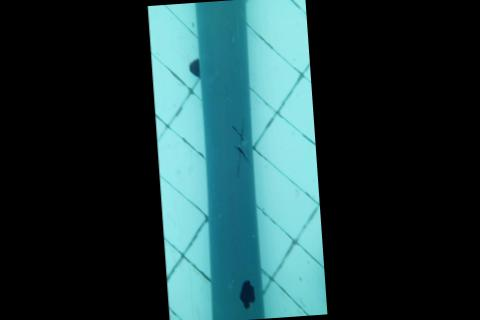kebocoran: (236, 278, 257, 310)
keretakan: (230, 119, 252, 180)
